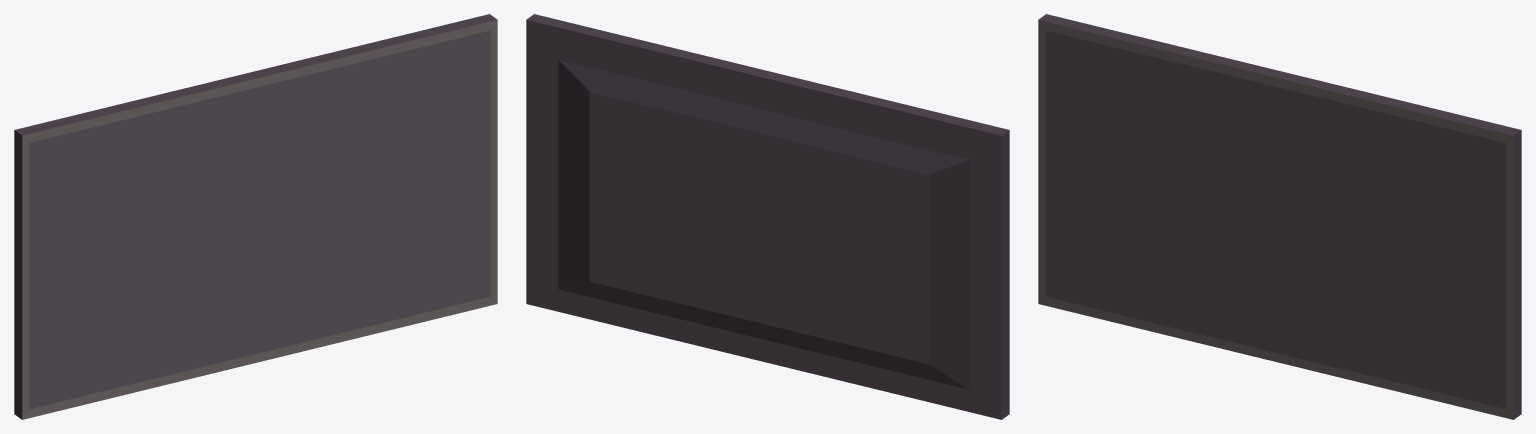
The model's file is Flat Tv.fbx.
The picture shows the model from 3 angles, left to right: view 1: azimuth 30°, elevation 25°; view 2: azimuth 150°, elevation 25°; view 3: azimuth 330°, elevation 25°; orthographic projection.
Parts seen in each view (by area): view 1: Flat Tv; view 2: Flat Tv; view 3: Flat Tv.
Part boxes in pixels (box(x1,y1,x2,y2)): Flat Tv: box(14, 14, 497, 419); Flat Tv: box(526, 14, 1009, 419); Flat Tv: box(1038, 14, 1521, 419).
Size of the model in its own units: 353 by 201 by 15.98.
